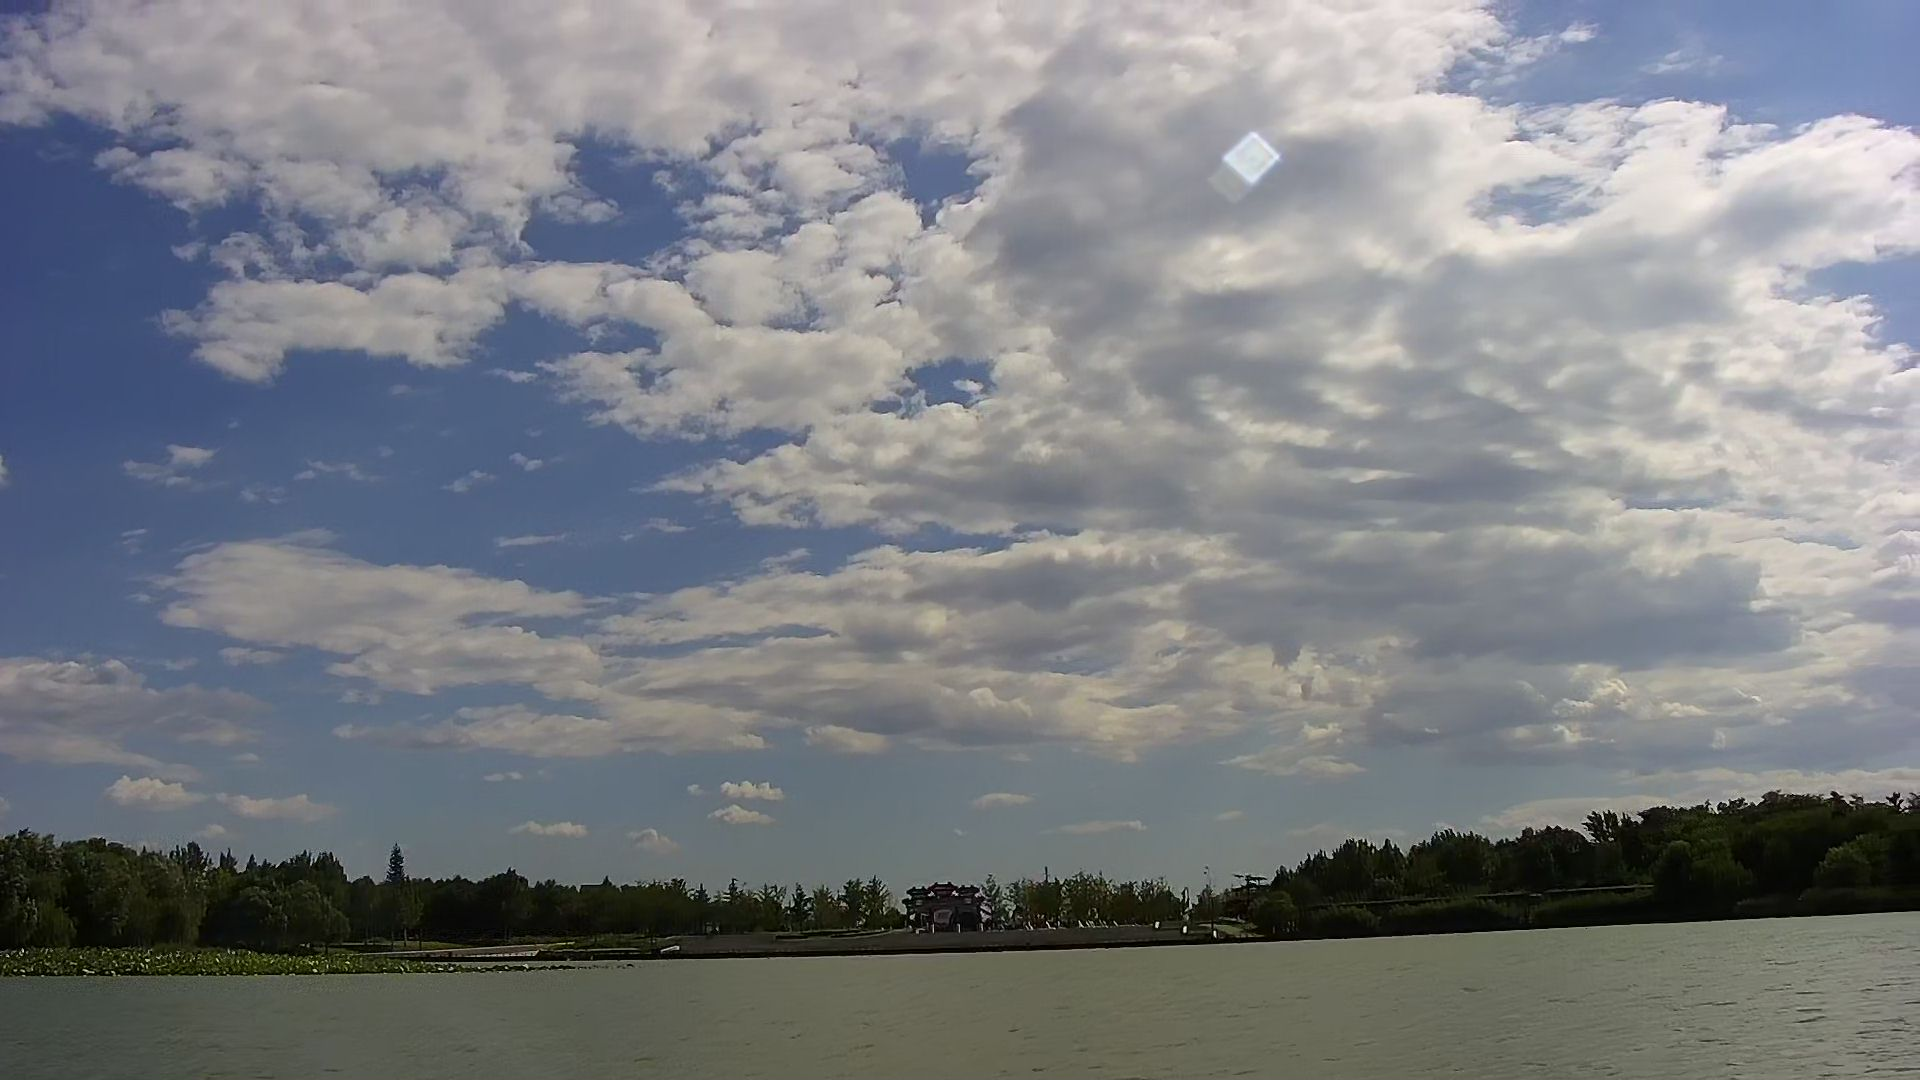harbor: (654, 922, 1284, 959)
